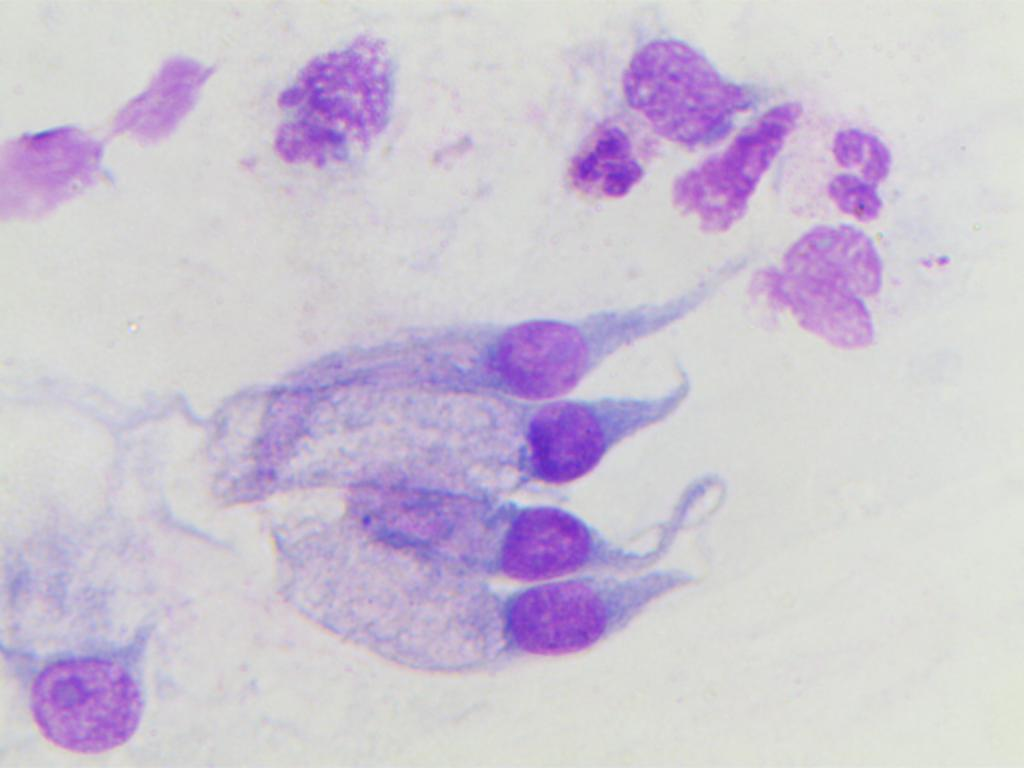ciliated: (257, 390, 643, 495), (295, 310, 726, 402), (269, 558, 647, 661), (326, 490, 680, 584)
goblet_cell: (8, 517, 154, 754)
neutrophil: (781, 108, 914, 228), (553, 114, 655, 215)
